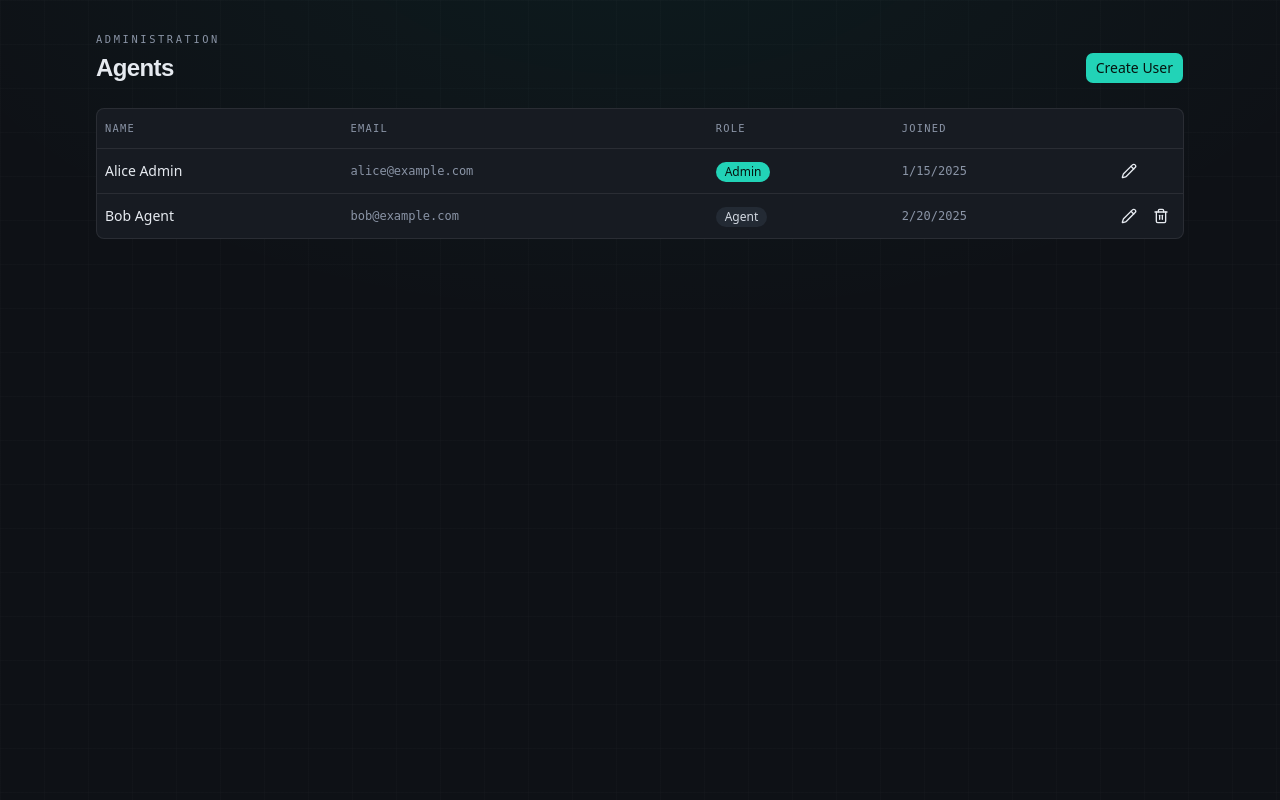
Scenario: UsersPage › opens create user dialog when clicking Create User button
Click the button "Create User".
click(1134, 68)  # box 1085,52 -> 1184,84
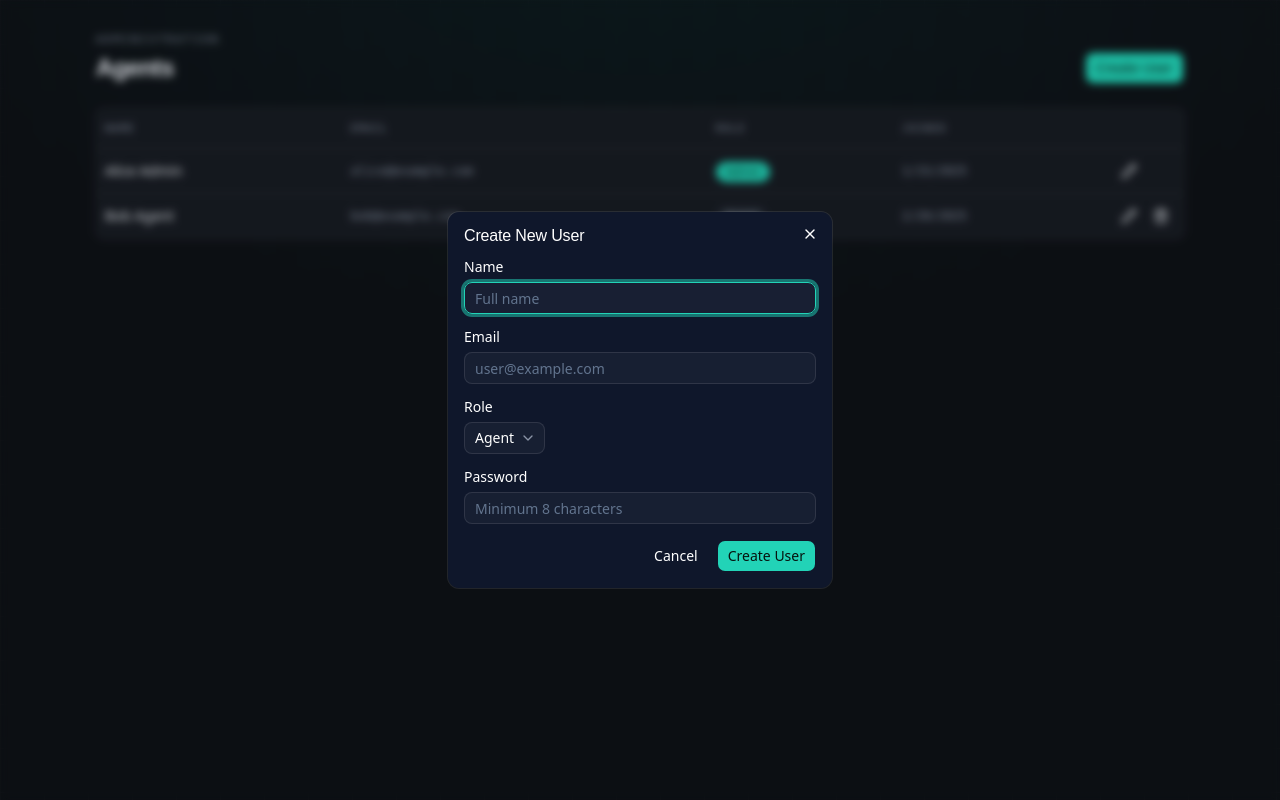
Expected: the dialog is shown, 448,212 -> 832,588
Expected: the heading "Create New User" is shown, 464,227 -> 584,244
